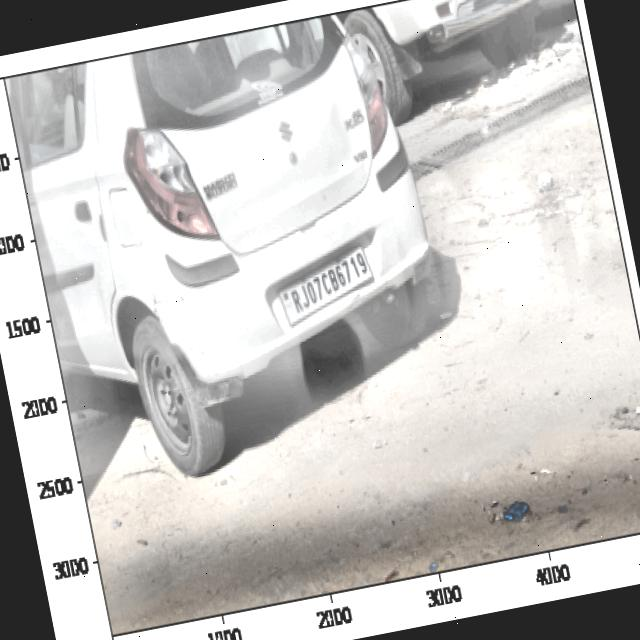license_plate: (282, 245, 376, 320)
